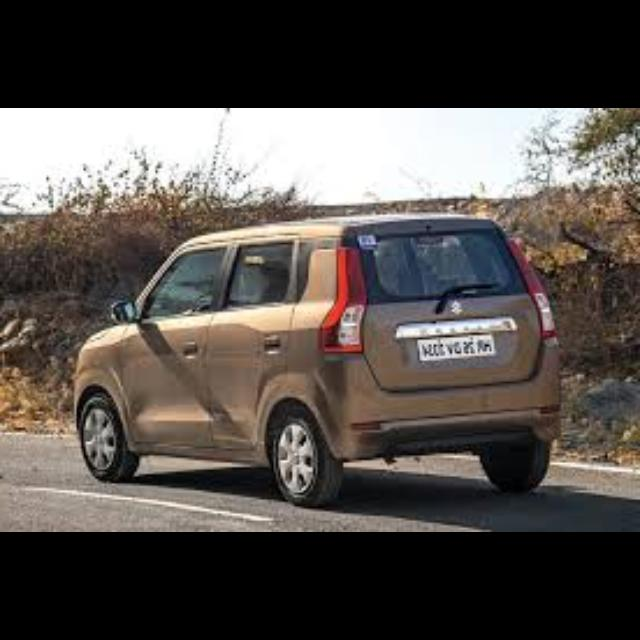number-plate: (418, 333, 499, 359)
vehicles: (69, 208, 575, 509)
